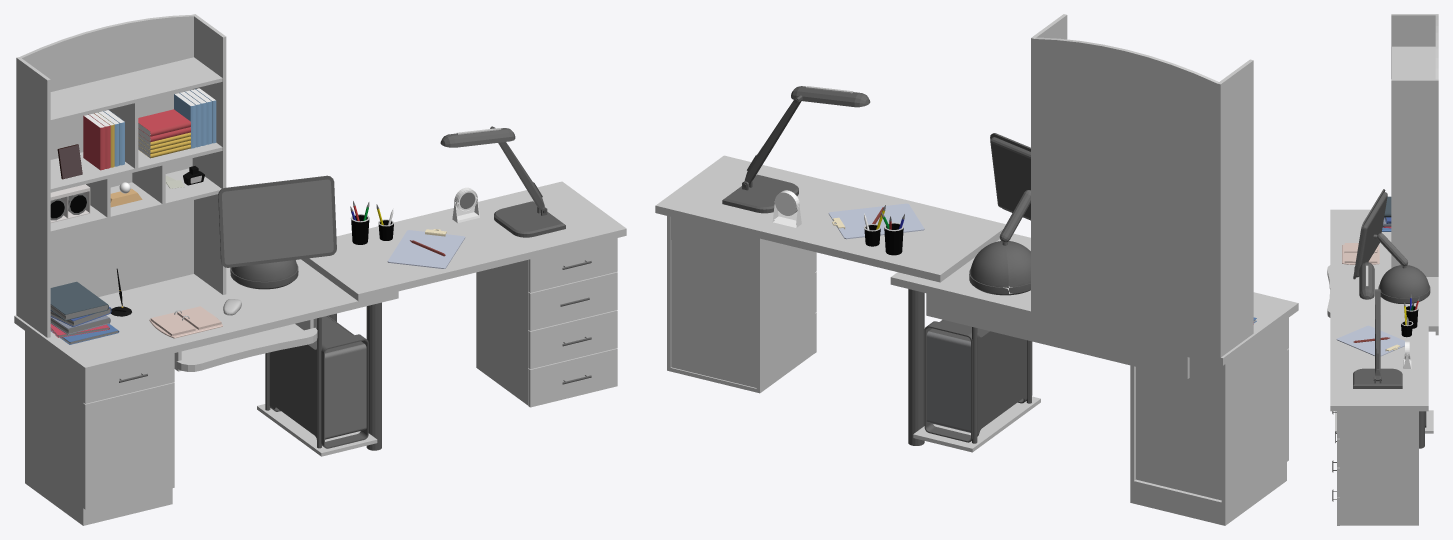
The model's file is Desk.fbx.
3 views of the same model, side by side, from view 1: azimuth 30°, elevation 25°; view 2: azimuth 150°, elevation 25°; view 3: azimuth 270°, elevation 25° (orthographic). The views are drawn at different scales.
Visible parts, largest first — view 1: 3dxy; view 2: 3dxy; view 3: 3dxy.
Part boxes in pixels (x1,y1,x2,y2): 3dxy: (14,14,626,525); 3dxy: (655,14,1298,525); 3dxy: (1327,14,1438,525).
Bounding box in the file's own units: 2420 × 1840 × 565.
